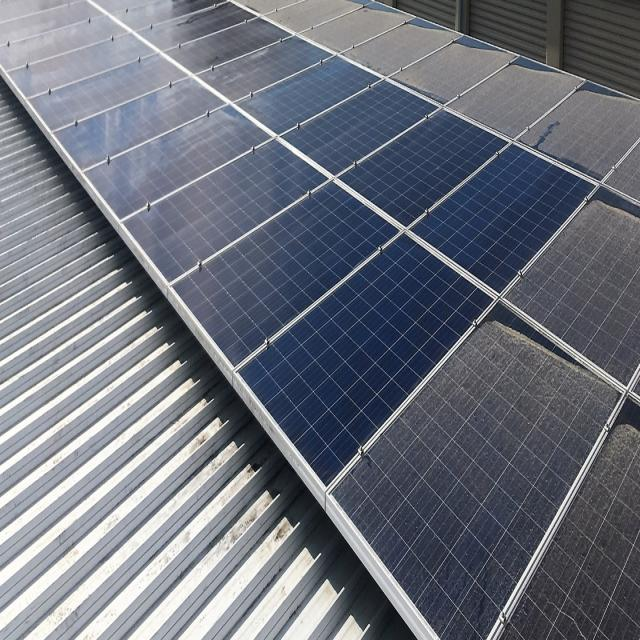dust-solar-panel: (230, 0, 640, 640)
